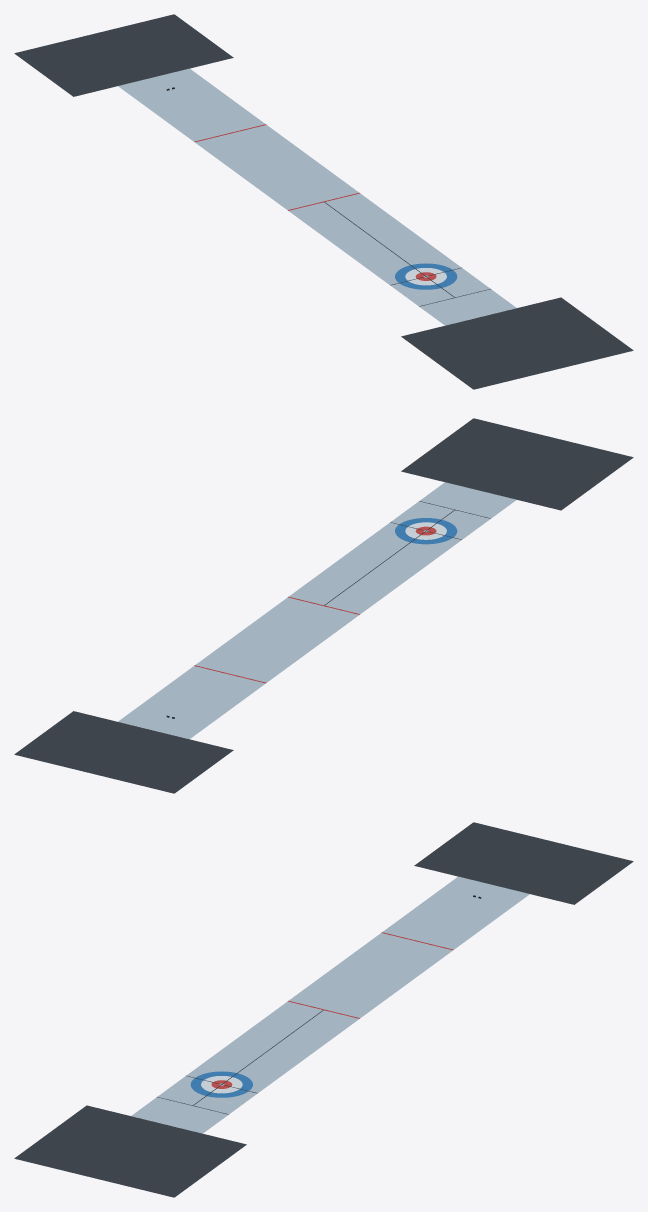
Rendered from sheet.glb.
The picture shows the model from 3 angles, top to bottom: view 1: azimuth 30°, elevation 25°; view 2: azimuth 150°, elevation 25°; view 3: azimuth 330°, elevation 25°; orthographic projection.
Visible parts, largest first — view 1: ice, floor_far, floor_near, ice_apron, house_twelve; view 2: ice, floor_far, floor_near, ice_apron, house_twelve; view 3: ice, floor_far, floor_near, ice_apron, house_twelve.
Boxes of the visible parts, x1,y1,x2,y2 form: ice: [118, 68, 478, 297]; floor_far: [401, 297, 633, 389]; floor_near: [14, 14, 233, 96]; ice_apron: [407, 280, 516, 325]; house_twelve: [395, 263, 457, 289]; ice: [118, 510, 478, 739]; floor_far: [401, 418, 633, 510]; floor_near: [14, 711, 233, 793]; ice_apron: [407, 482, 516, 527]; house_twelve: [395, 518, 457, 544]; ice: [169, 876, 529, 1105]; floor_far: [14, 1105, 246, 1197]; floor_near: [414, 822, 633, 904]; ice_apron: [131, 1088, 240, 1133]; house_twelve: [190, 1071, 252, 1097].
Size of the model in its own units: 10.88 by 0.1051 by 54.
